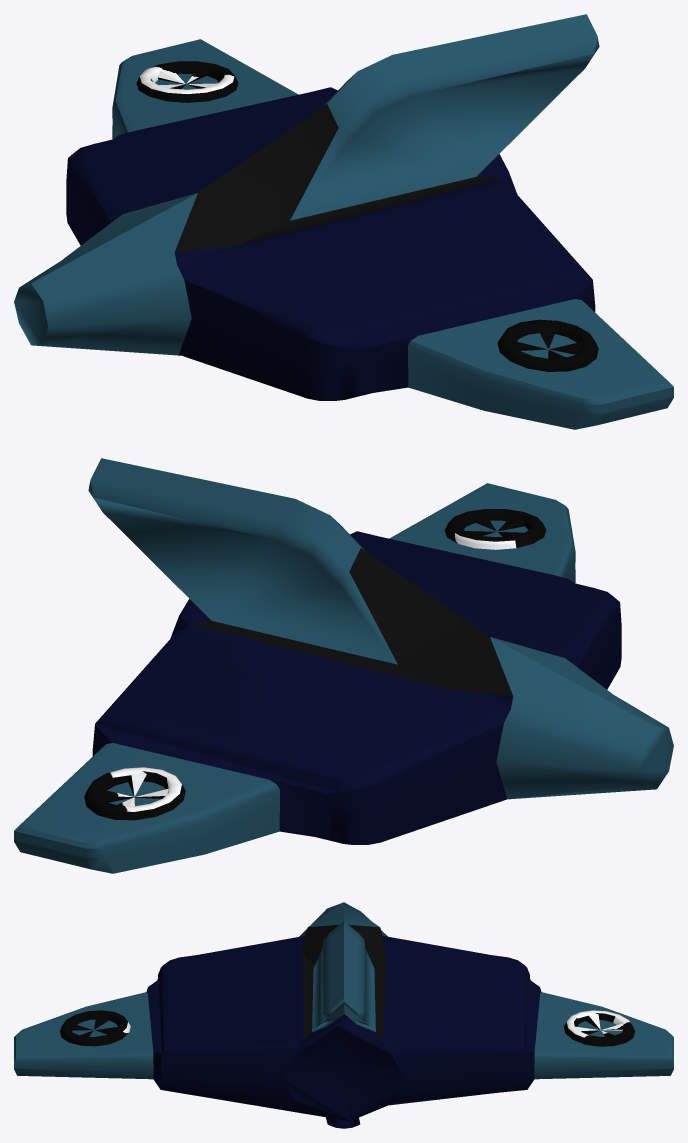
The model's file is Ship2.obj.
3 renders of one model, top to bottom at view 1: azimuth 30°, elevation 25°; view 2: azimuth 150°, elevation 25°; view 3: azimuth 270°, elevation 25°, orthographic. The views are drawn at different scales.
Visible parts, largest first — view 1: Ship_Untitled; view 2: Ship_Untitled; view 3: Ship_Untitled.
Boxes of the visible parts, x1,y1,x2,y2 form: Ship_Untitled: [14, 14, 673, 429]; Ship_Untitled: [14, 458, 673, 873]; Ship_Untitled: [14, 902, 673, 1128].
Bounding box in the file's own units: 0.3137 × 0.1354 × 0.4596.
4 materials, 1 textured.
